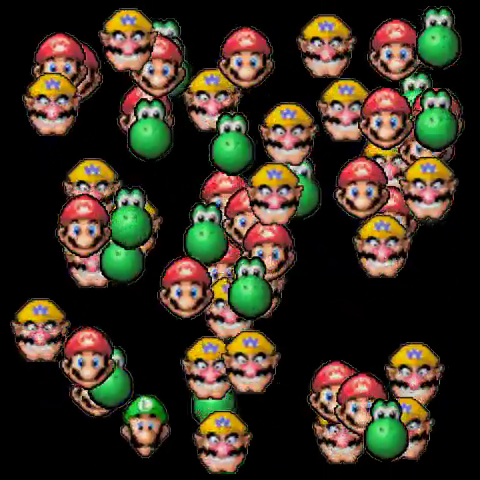luigi: (126, 392, 171, 460)
